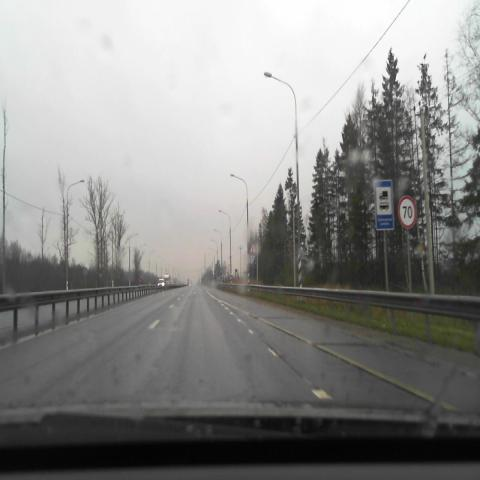7_14: (374, 179, 394, 230)
